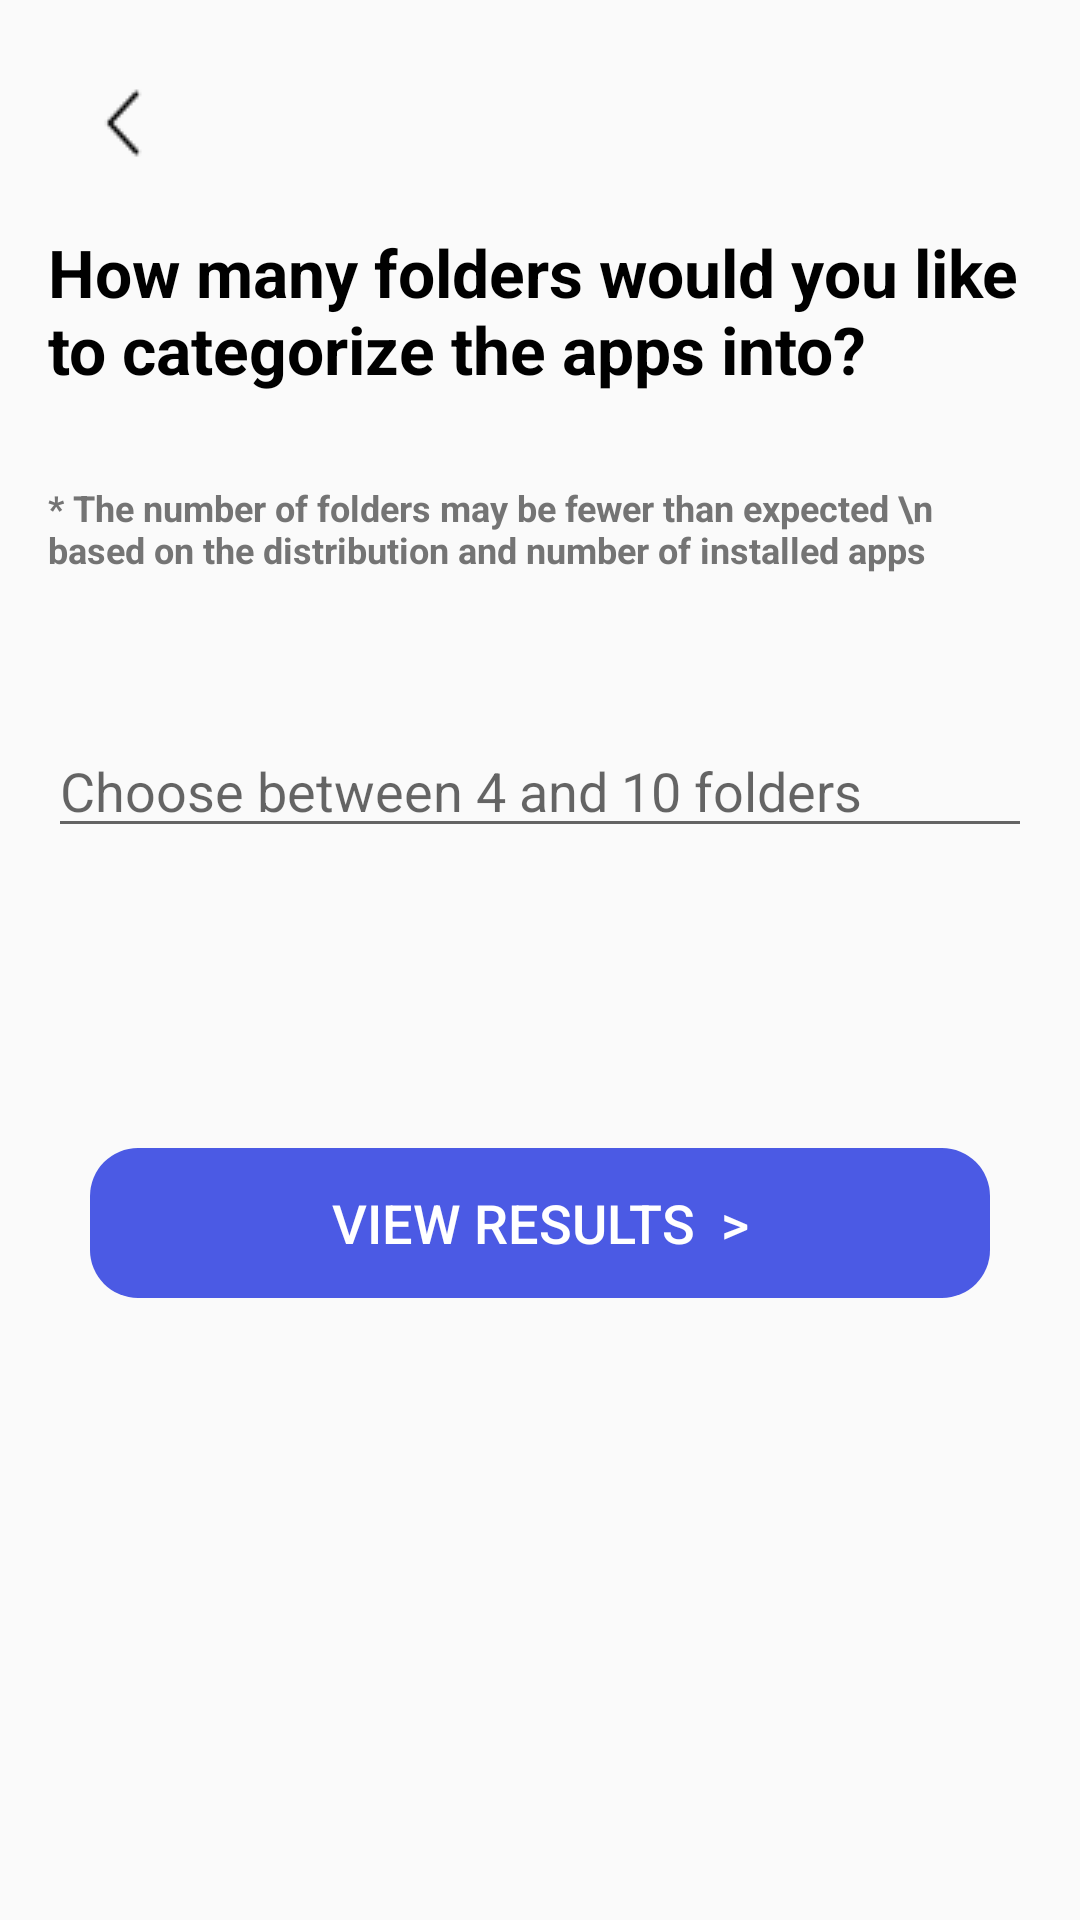

Point at icon controls on the screen. Image size 1080px×1920px, points as (x=x, y=y).
back arrow: (x=123, y=123)
